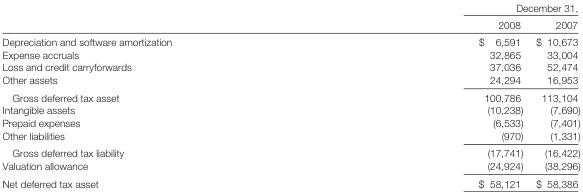table: (1, 1, 579, 188)
table column: (1, 1, 324, 188), (324, 1, 528, 188), (528, 1, 579, 188)
table column header: (1, 1, 579, 32)
table row: (1, 15, 579, 32), (1, 72, 579, 88), (1, 32, 579, 47), (1, 88, 579, 103), (1, 128, 579, 143), (1, 143, 579, 158), (1, 158, 579, 173), (1, 173, 579, 188), (1, 1, 579, 15), (1, 47, 579, 60), (1, 115, 579, 128), (1, 60, 579, 72), (1, 103, 579, 115)
table spanning cell: (324, 1, 579, 15)
